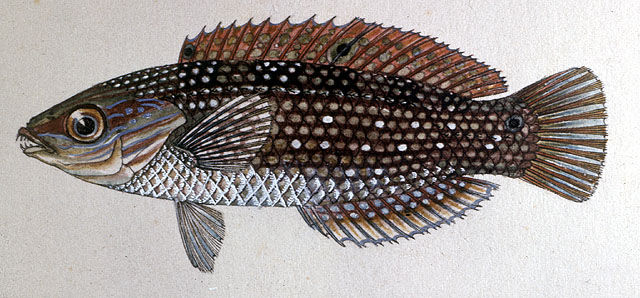fish: (15, 16, 608, 274)
